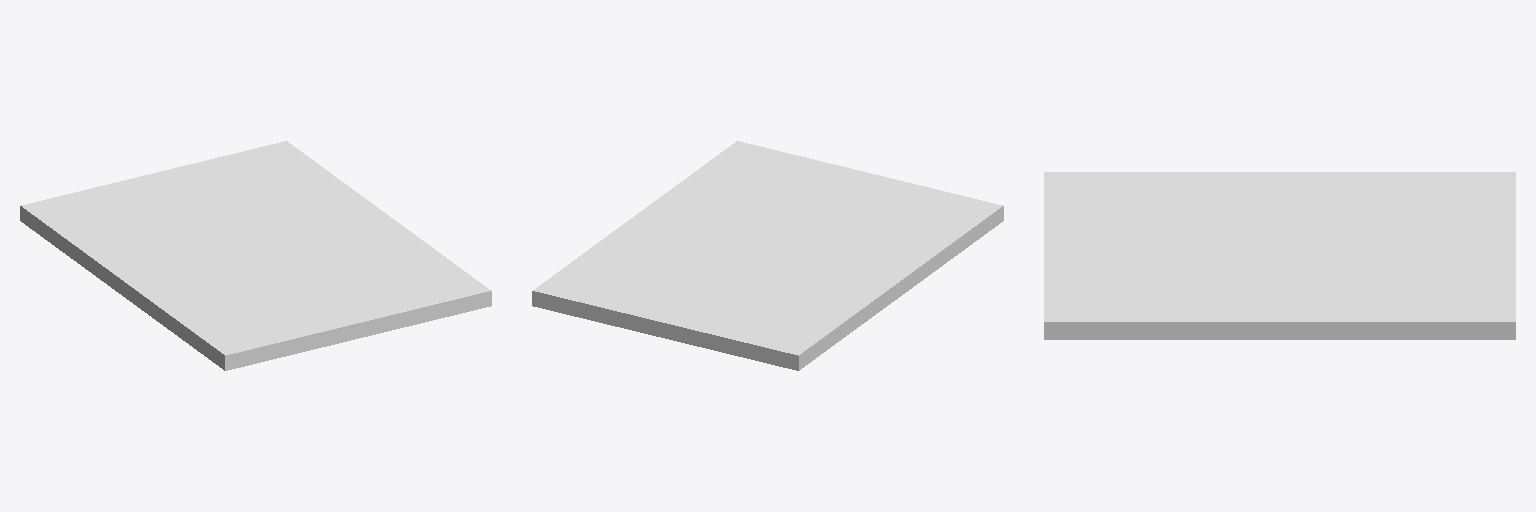
URDF robot description (table.urdf):
<?xml version="0.0" ?>
<robot name="table.urdf">
  <link name="baseLink">
    <contact>
      <lateral_friction value="1.0"/>
    </contact>
    <inertial>
      <origin rpy="0 0 0" xyz="0 0 0"/>
      <mass value=".0"/>
      <inertia ixx="1" ixy="0" ixz="0" iyy="1" iyz="0" izz="1"/>
    </inertial>
    <visual>
      <origin rpy="0 0 0" xyz="0 0 -0.025"/>
      <geometry>
        <box size="0.9 1.2 0.05"/>
      </geometry>
       <material name="white">
        <color rgba="0.96 0.96 0.96 1"/>
      </material>
    </visual>
    <collision>
      <origin rpy="0 0 0" xyz="0 0 -0.025"/>
      <geometry>
         <box size="0.9 1.2 0.05"/>
      </geometry>
    </collision>
  </link>
</robot>

--- Render facts (derived) ---
The picture shows the robot from 3 angles, left to right: view 1: azimuth 30°, elevation 25°; view 2: azimuth 150°, elevation 25°; view 3: azimuth 270°, elevation 25°; orthographic projection.
Model table.urdf with 1 links and 0 joints (none), rooted at baseLink, posed all joints at 0.
Visible links, largest first — view 1: baseLink; view 2: baseLink; view 3: baseLink.
Boxes of the visible links, x1,y1,x2,y2 form: baseLink: (20,141,491,370); baseLink: (532,141,1003,370); baseLink: (1044,172,1515,339).
Size in the robot's own frame: 0.9 by 1.2 by 0.05 metres.
Geometry: primitives only (box / cylinder / sphere), no mesh files.